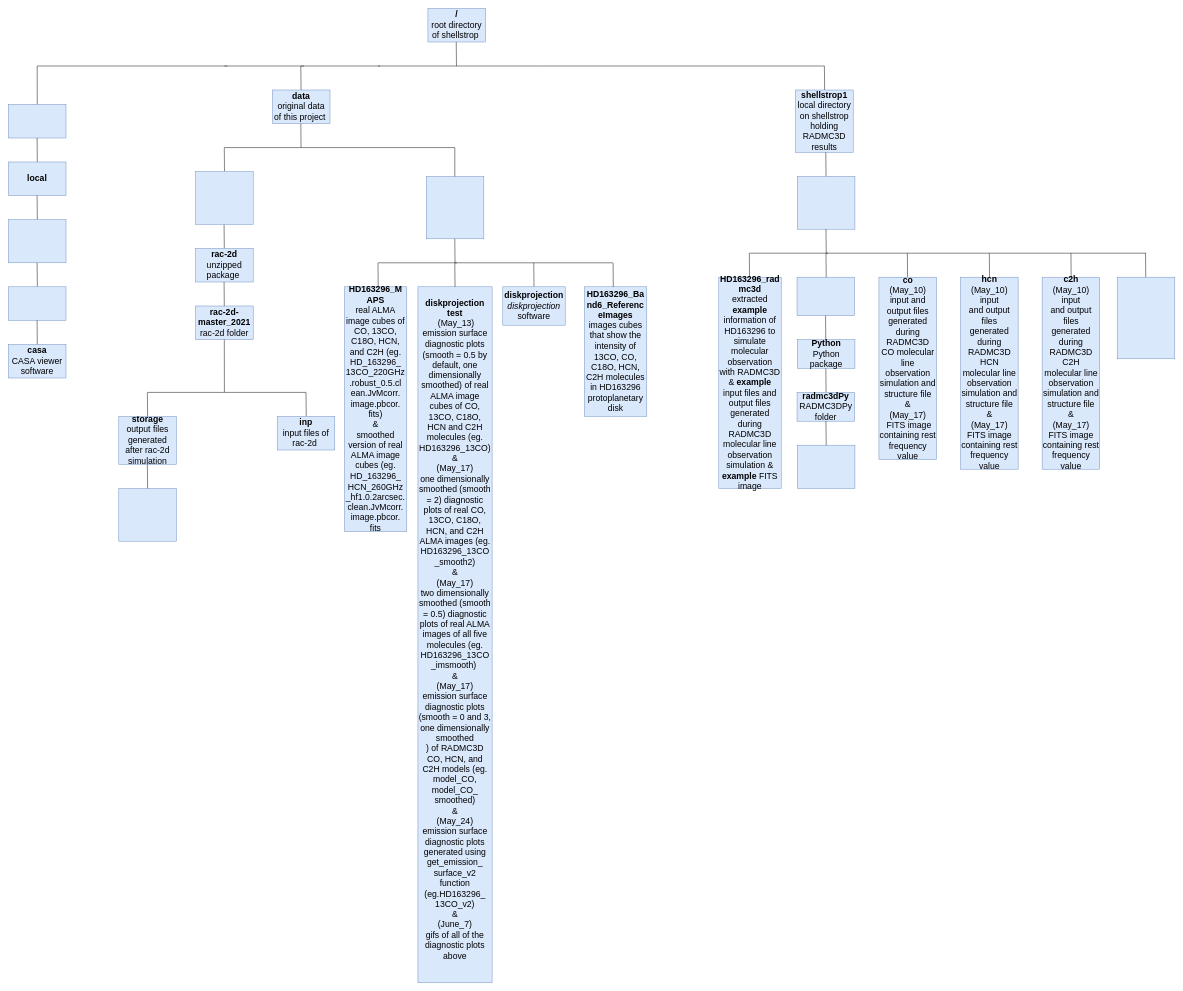
Some shapes in this 1183 by 991 pixel diagram are drawn without their labels. Here are the shapes that lost their labels. From the top down, the box of each, then its label:
(8, 104, 66, 138): usr
(195, 171, 253, 224): feilongm my directory holding zipped rad-2d software
(426, 176, 484, 239): shared gas and dust emission images shared by the whole team
(797, 176, 855, 229): feilongm directory holding image cubes I made
(8, 219, 66, 263): casa-pipeline-release-5.6.1-8.e17
(8, 286, 66, 320): bin
(797, 277, 855, 316): radmc3d-2.0-master RADMC3D folder
(1117, 277, 1175, 359): casatutorials (May_24) example images generated when going through CASA guides
(797, 445, 855, 488): radmc3dPy source code of RADMC3DPy
(118, 488, 176, 541): HD_163296_C Odep_t1e4_3 radc-2d simulation results
